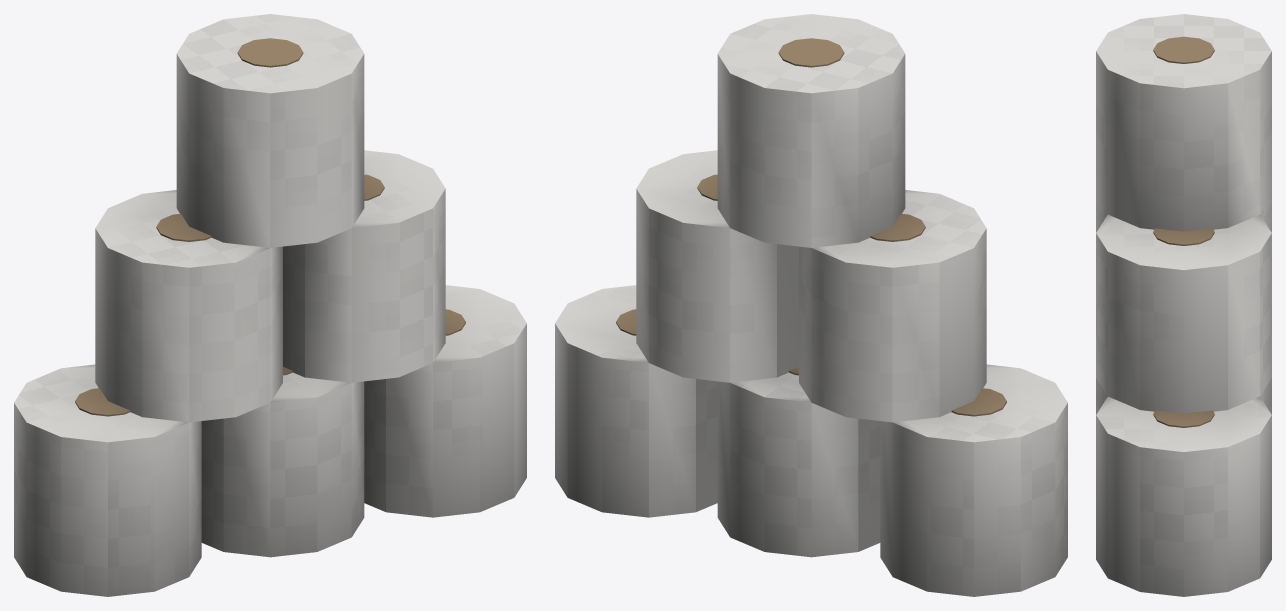
3 views of the same model, side by side, from view 1: azimuth 30°, elevation 25°; view 2: azimuth 150°, elevation 25°; view 3: azimuth 270°, elevation 25° (orthographic). The views are drawn at different scales.
Visible parts, largest first — view 1: body; view 2: body; view 3: body.
Part boxes in pixels (x1,y1,x2,y2): body: [14, 14, 526, 596]; body: [555, 14, 1067, 596]; body: [1096, 14, 1271, 596].
Size of what is drawn, in the model's own units: 0.33 by 0.302 by 0.11.
2 materials, 1 textured.
